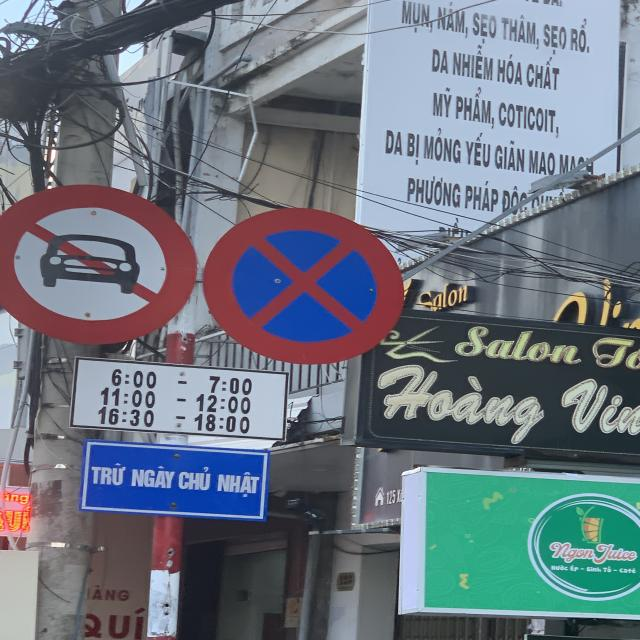Cam_Dung_Va_Dau_Xe: (206, 208, 405, 366)
Cam_O_To: (0, 183, 196, 346)
